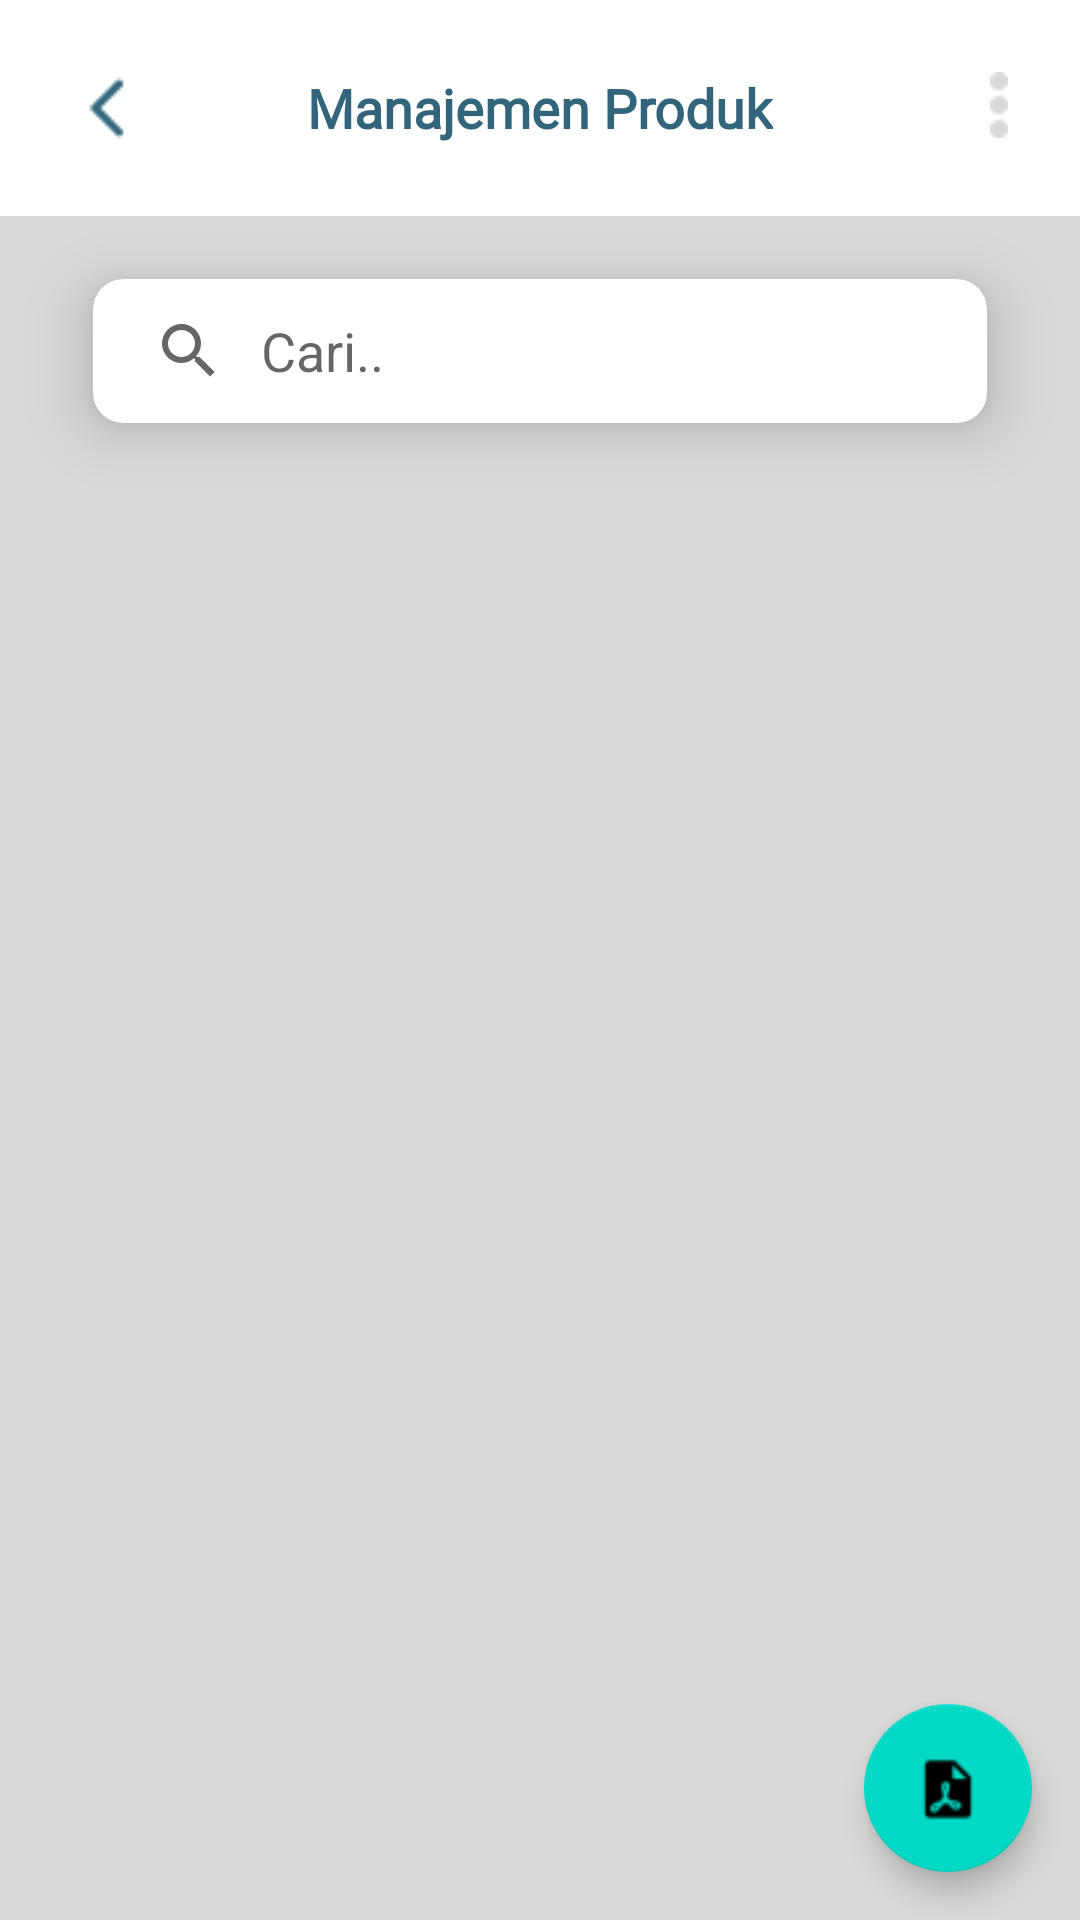

Icon click points for this 1080w x 1920h phone screenshot, format (x=x, y=y):
back: (x=106, y=108)
Export PDF: (x=948, y=1788)
three dot: (x=999, y=105)
